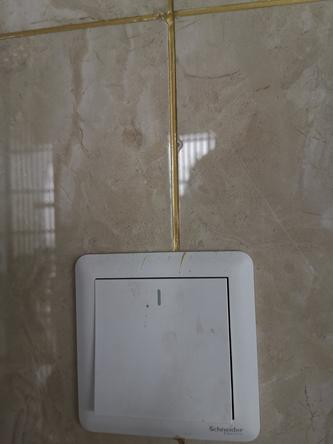switch: (87, 272, 244, 422)
